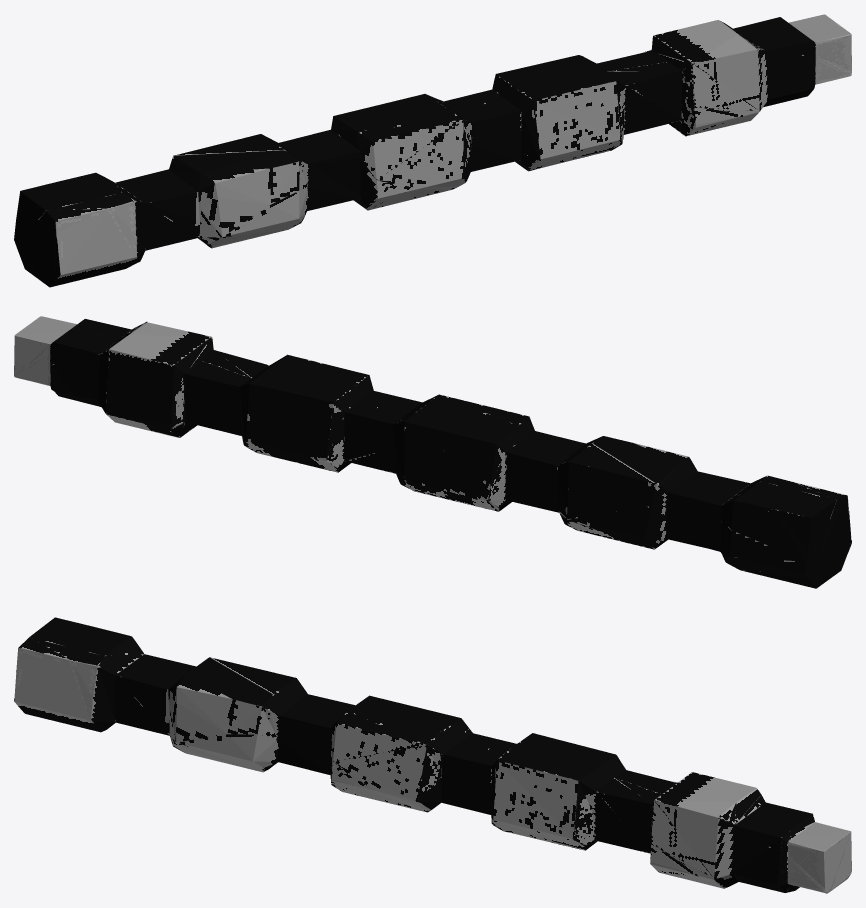
3 renders of one model, top to bottom at view 1: azimuth 30°, elevation 25°; view 2: azimuth 150°, elevation 25°; view 3: azimuth 330°, elevation 25°, orthographic.
Visible parts, largest first — view 1: OBJ098; view 2: OBJ098; view 3: OBJ098.
Boxes of the visible parts, x1=… form: OBJ098: x1=14, y1=14, x2=851, y2=287; OBJ098: x1=14, y1=316, x2=851, y2=588; OBJ098: x1=14, y1=617, x2=851, y2=893.
Bounding box in the file's own units: 0.3421 × 0.032 × 0.0349.
1 material, 1 textured.
